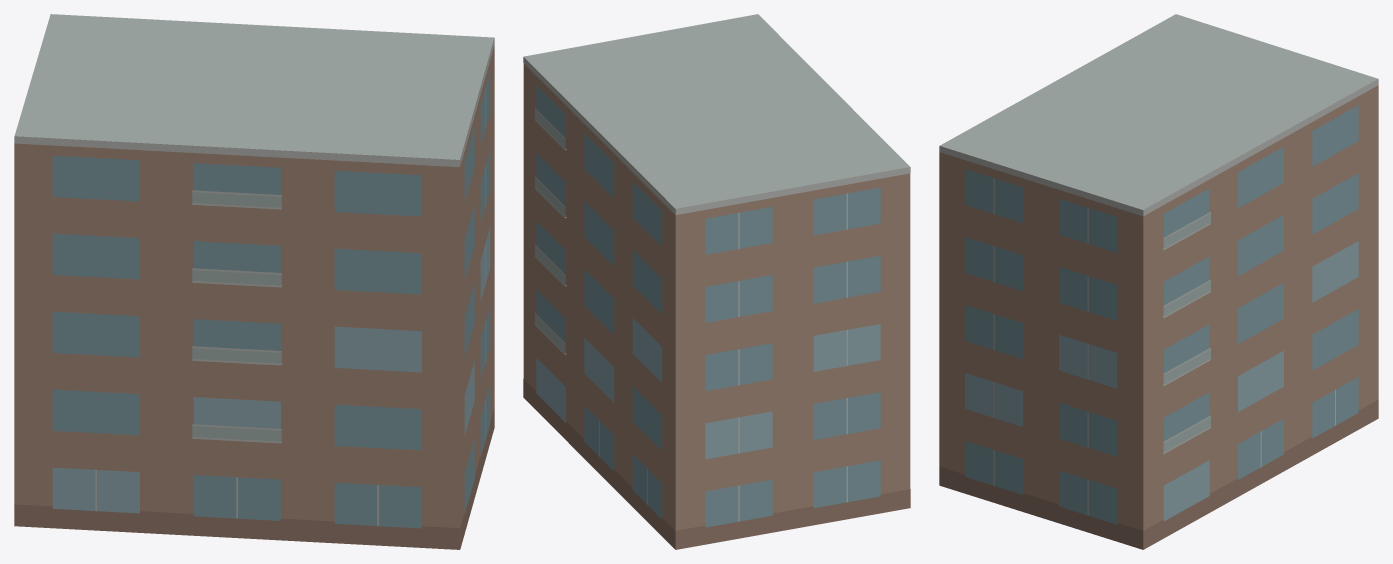
Rendered from survey-upis-32853507.glb.
3 views of the same model, side by side, from view 1: azimuth 30°, elevation 25°; view 2: azimuth 150°, elevation 25°; view 3: azimuth 270°, elevation 25° (orthographic). The views are drawn at different scales.
Parts seen in each view (by area): view 1: survey-upis-32853507.tmp; view 2: survey-upis-32853507.tmp; view 3: survey-upis-32853507.tmp.
Boxes of the visible parts, x1,y1,x2,y2 form: survey-upis-32853507.tmp: (14,14,494,549); survey-upis-32853507.tmp: (523,14,910,549); survey-upis-32853507.tmp: (939,14,1378,549).
Size of the model in its own units: 16.35 by 13.2 by 15.47.
